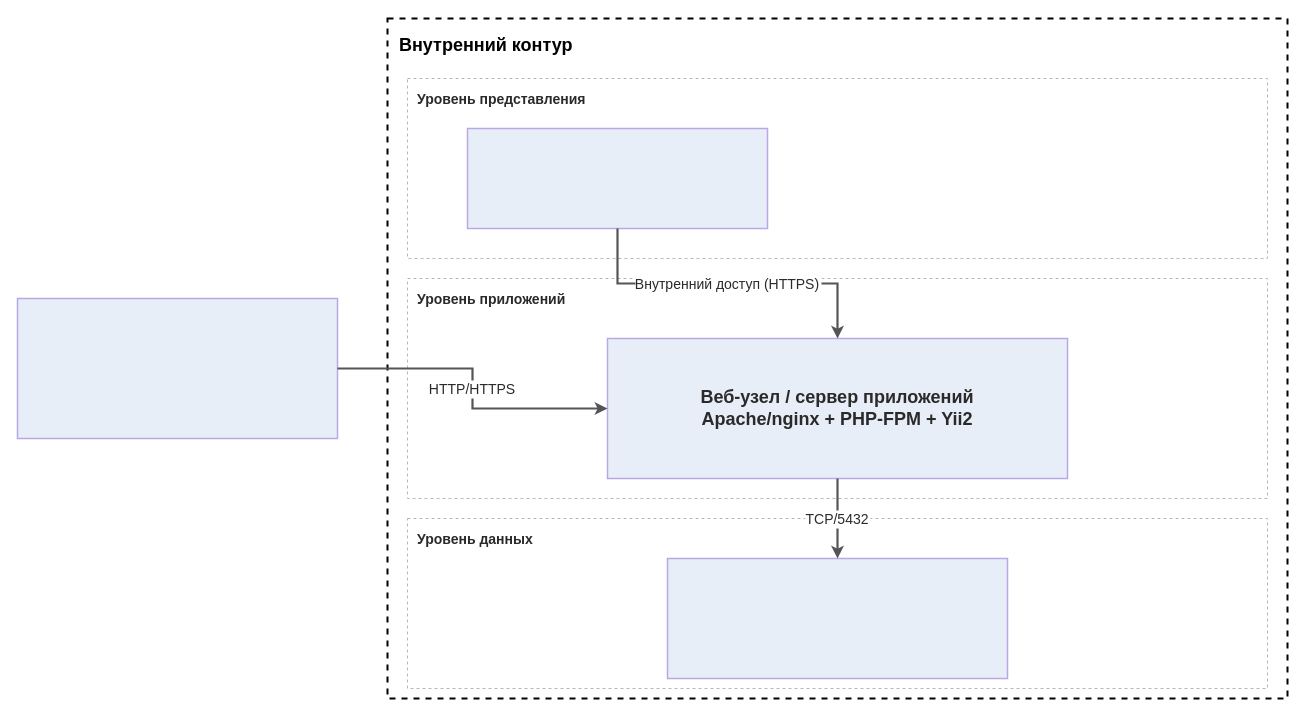
This 1306x716 diagram has some shape labels left out. The shapes that lost their labels are listed below. From the top down, each one's centre as x and y in pixels, then its label:
[617,178]: Административный узел АРМ администратора
[177,368]: Внешний клиентский узел веб-браузер пользователя
[837,618]: Узел СУБД PostgreSQL schema tech_accounting
